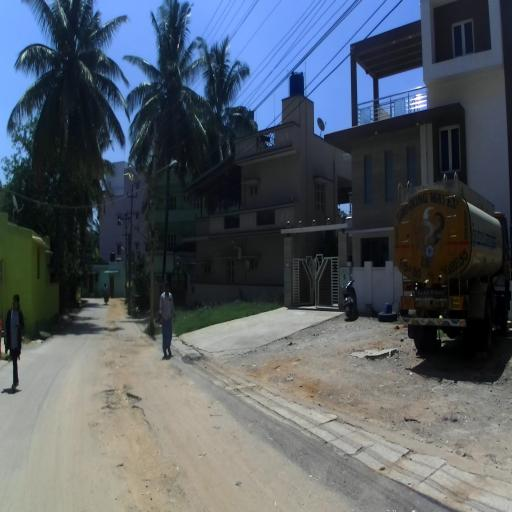street_light_0: (128, 165, 155, 209), (151, 159, 178, 190), (118, 218, 130, 236), (121, 246, 127, 254)
